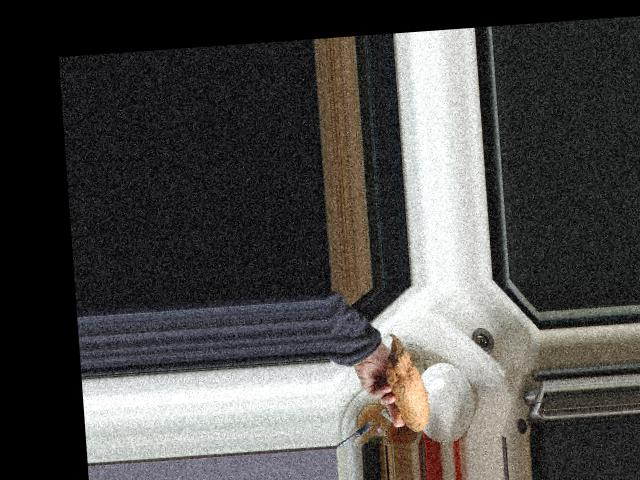sweet_potato: (383, 331, 433, 433)
